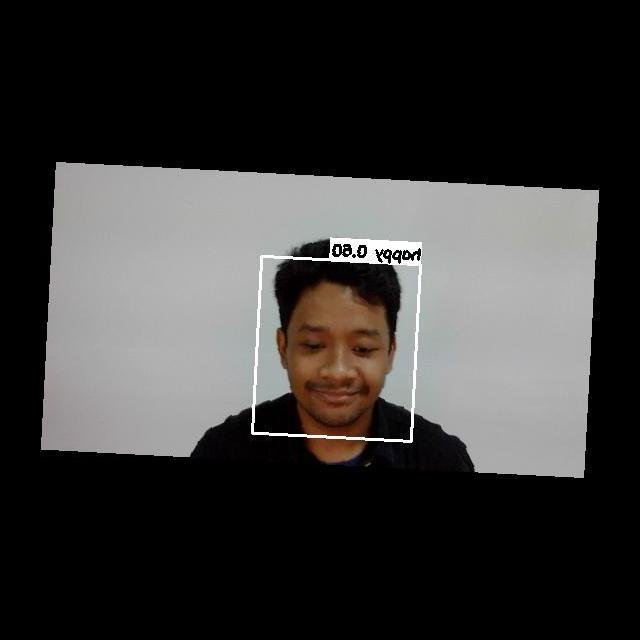Happy: (276, 310, 400, 411)
